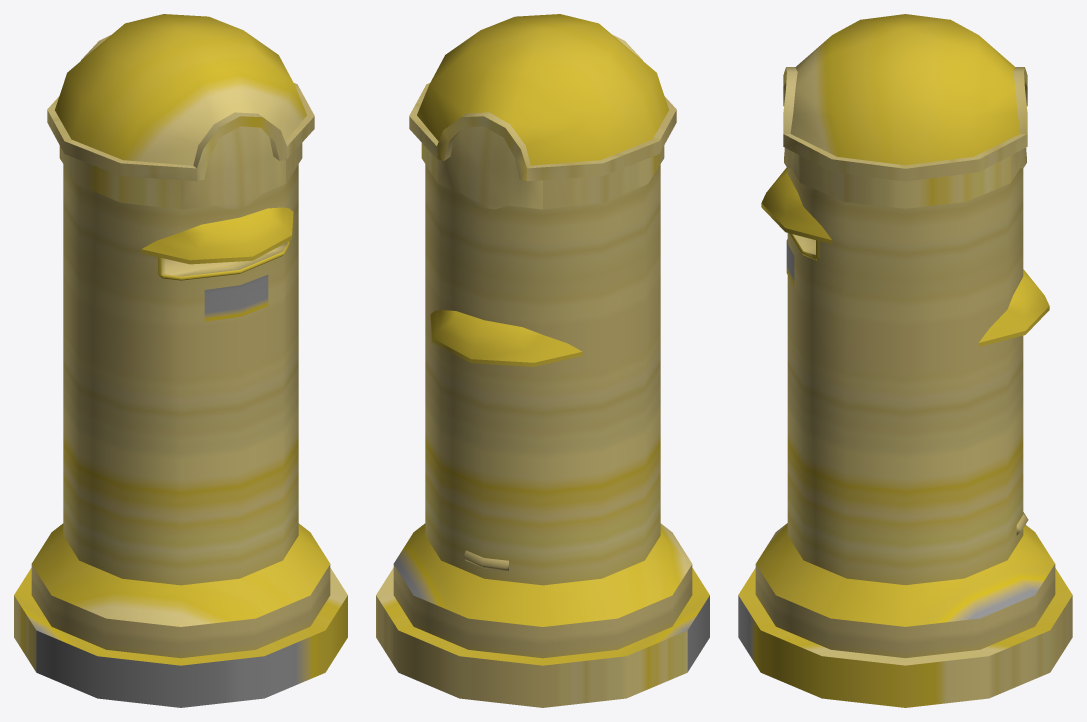
The model's file is objects_un_post01.gltf.
The picture shows the model from 3 angles, left to right: view 1: azimuth 30°, elevation 25°; view 2: azimuth 150°, elevation 25°; view 3: azimuth 270°, elevation 25°; orthographic projection.
Visible parts, largest first — view 1: objects_un_post01; view 2: objects_un_post01; view 3: objects_un_post01.
Part boxes in pixels (bbox=[...]): objects_un_post01: bbox=[14, 14, 347, 707]; objects_un_post01: bbox=[376, 14, 709, 707]; objects_un_post01: bbox=[738, 14, 1072, 707].
Size of what is drawn, in the model's own units: 0.7876 by 1.58 by 0.7876.
Materials: 1 (1 with a texture image).
